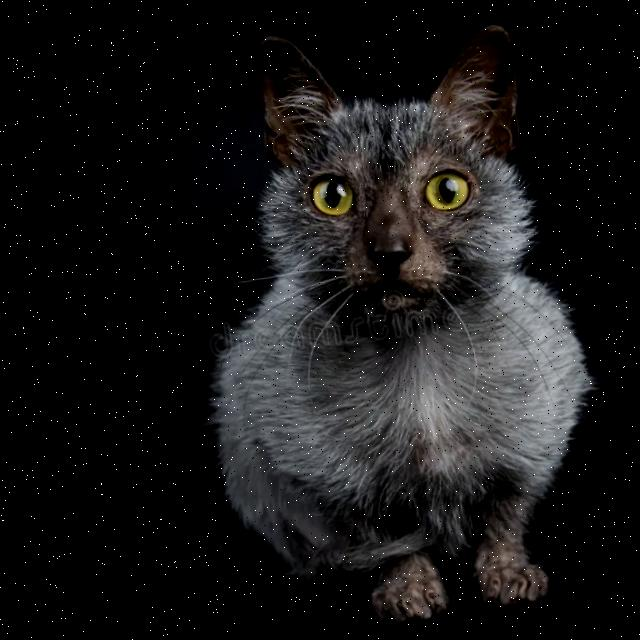Lykoi: (135, 1, 628, 639)
